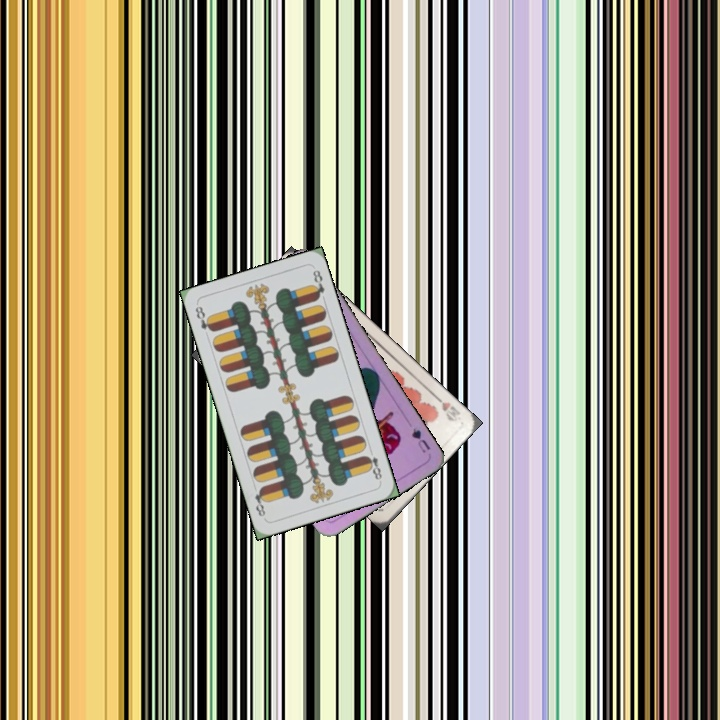E8: (361, 445, 384, 484), (191, 302, 216, 334)
GU: (407, 424, 433, 455)
H10: (430, 391, 463, 424)
